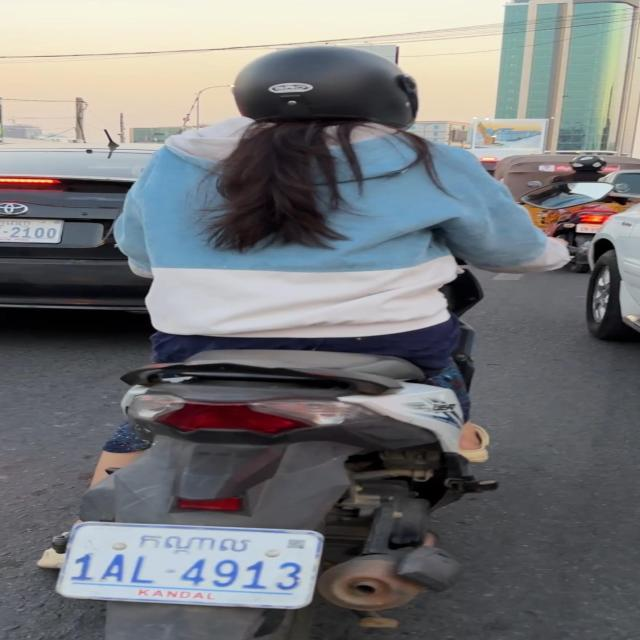Kandal: (135, 528, 255, 556)
